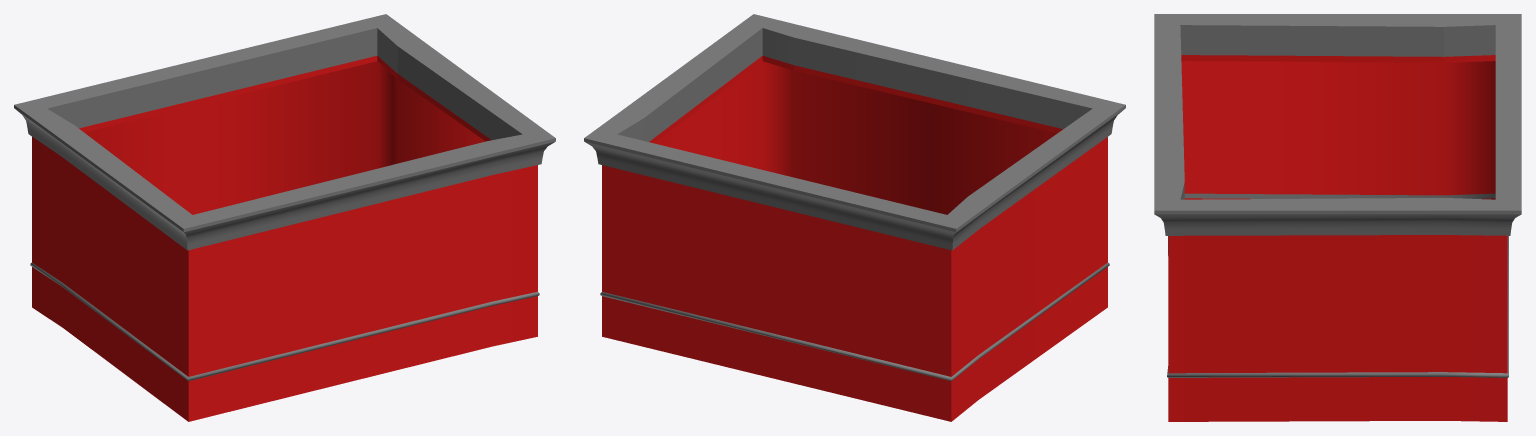
Rendered from Building2_Top.fbx.
3 views of the same model, side by side, from view 1: azimuth 30°, elevation 25°; view 2: azimuth 150°, elevation 25°; view 3: azimuth 270°, elevation 25° (orthographic). The views are drawn at different scales.
Visible parts, largest first — view 1: Building2_Top; view 2: Building2_Top; view 3: Building2_Top.
Part boxes in pixels (x1,y1,x2,y2): Building2_Top: [14, 14, 555, 421]; Building2_Top: [584, 14, 1125, 421]; Building2_Top: [1154, 14, 1521, 421].
Bounding box in the file's own units: 216 × 111 × 170.
